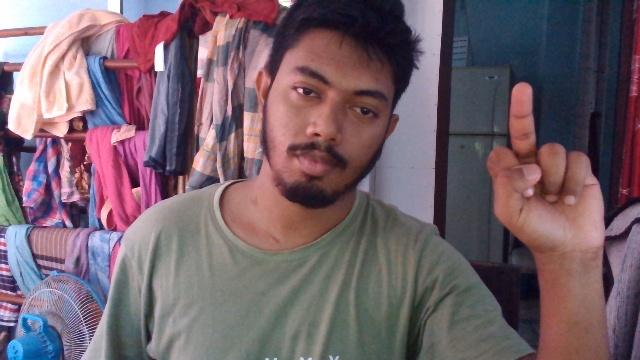fucku: (485, 79, 616, 259)
